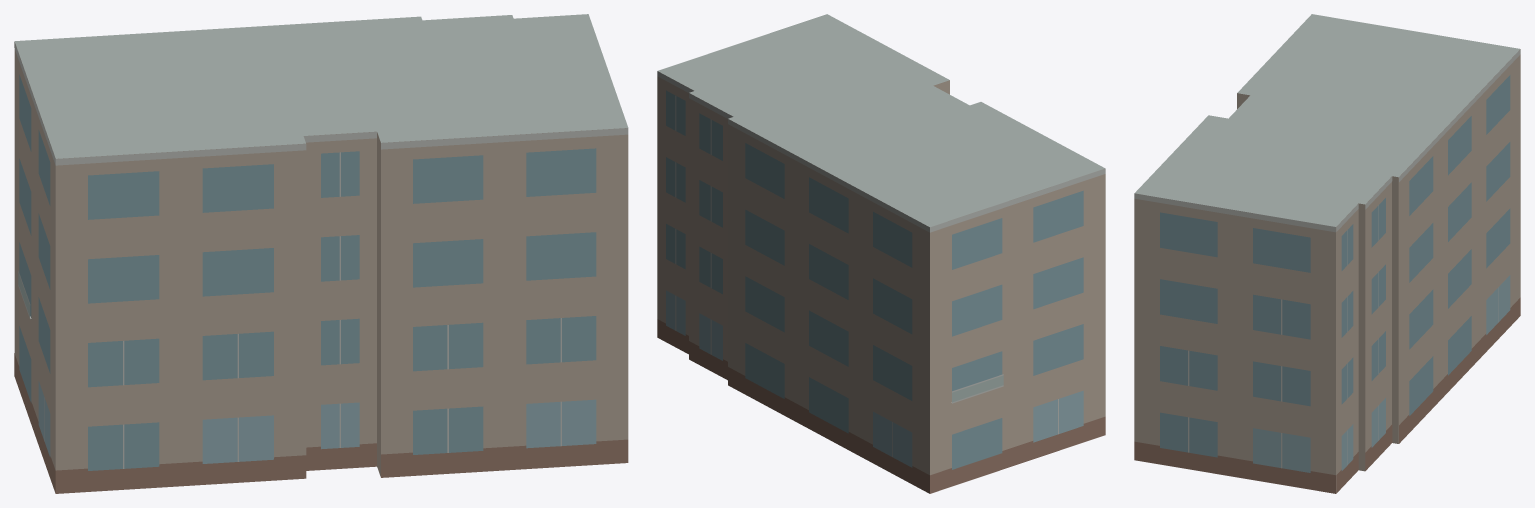
File: survey-upis-32692217.glb
The picture shows the model from 3 angles, left to right: view 1: azimuth 30°, elevation 25°; view 2: azimuth 150°, elevation 25°; view 3: azimuth 270°, elevation 25°; orthographic projection. The views are drawn at different scales.
Visible parts, largest first — view 1: survey-upis-32692217.tmp; view 2: survey-upis-32692217.tmp; view 3: survey-upis-32692217.tmp.
Boxes of the visible parts, x1,y1,x2,y2 form: survey-upis-32692217.tmp: (14,14,628,493); survey-upis-32692217.tmp: (657,14,1105,493); survey-upis-32692217.tmp: (1134,14,1520,493).
Size of the model in its own units: 20.9 by 12.2 by 16.01.
